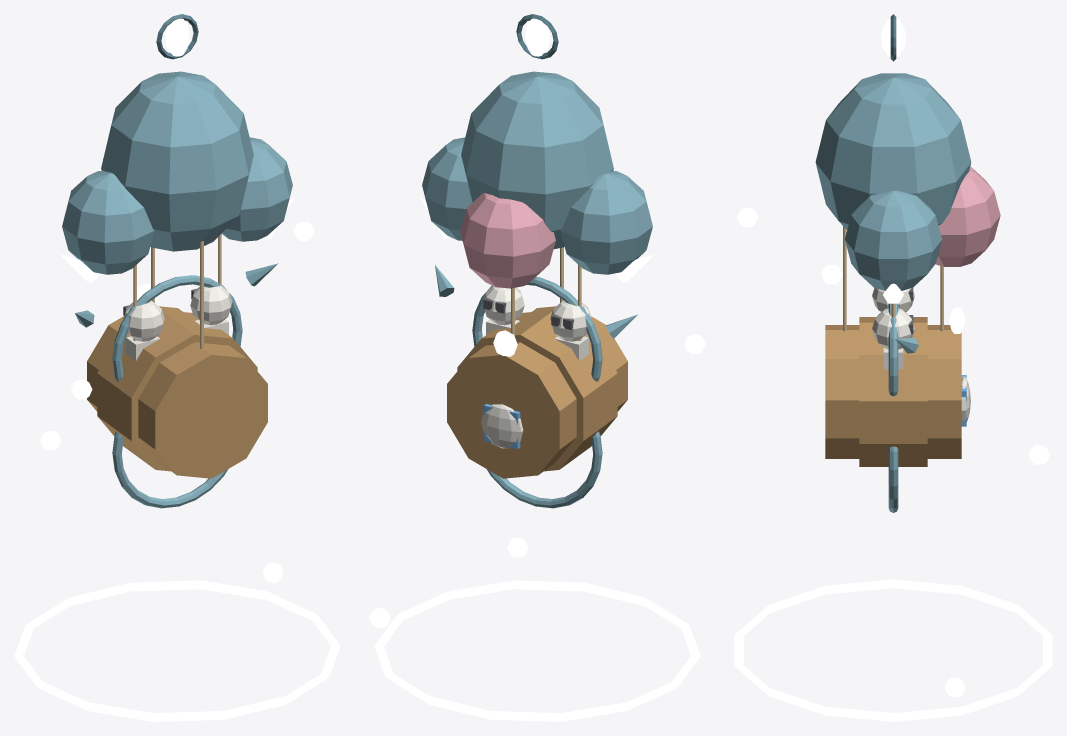
File: evolved_skeleton_barrel.glb
3 renders of one model, left to right at view 1: azimuth 30°, elevation 25°; view 2: azimuth 150°, elevation 25°; view 3: azimuth 270°, elevation 25°, orthographic.
Visible parts, largest first — view 1: evolved_skeleton_barrel; view 2: evolved_skeleton_barrel; view 3: evolved_skeleton_barrel.
Part boxes in pixels (x1=…): evolved_skeleton_barrel: x1=14, y1=14, x2=340, y2=721; evolved_skeleton_barrel: x1=369, y1=14, x2=705, y2=721; evolved_skeleton_barrel: x1=734, y1=14, x2=1052, y2=721.
Bounding box in the file's own units: 3.69 × 7.96 × 3.59.
